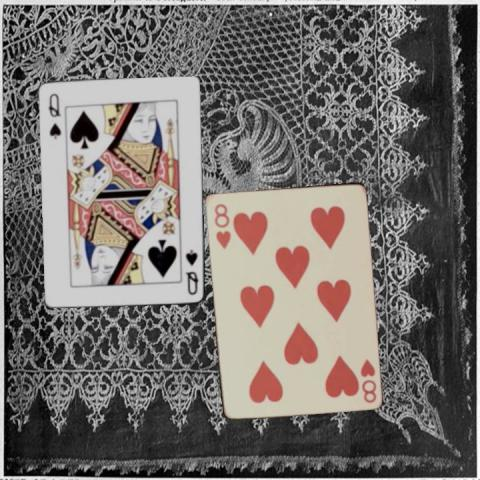8h: (211, 200, 232, 250), (357, 355, 377, 404)
Qs: (183, 246, 200, 297), (45, 91, 63, 139)
